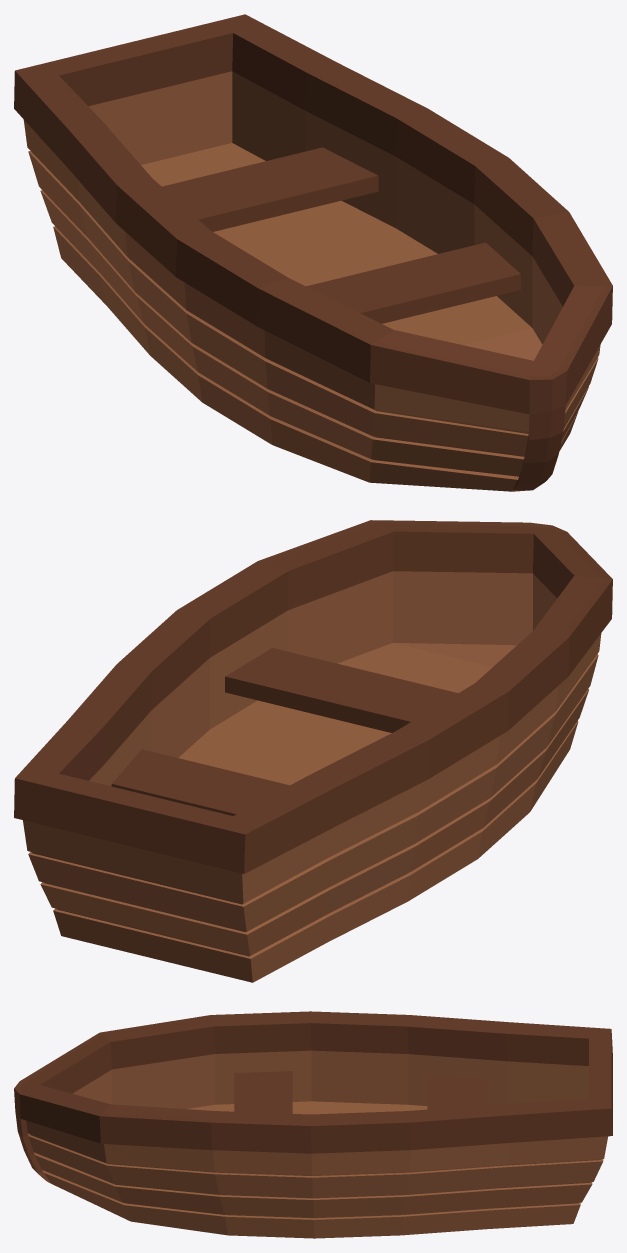
The model's file is barco.fbx.
3 views of the same model, one above another, from view 1: azimuth 30°, elevation 25°; view 2: azimuth 150°, elevation 25°; view 3: azimuth 270°, elevation 25° (orthographic). The views are drawn at different scales.
Parts seen in each view (by area): view 1: Cube; view 2: Cube; view 3: Cube.
Part boxes in pixels (bbox=[...]): Cube: bbox=[14, 14, 612, 491]; Cube: bbox=[14, 520, 612, 982]; Cube: bbox=[14, 1011, 612, 1238].
Bounding box in the file's own units: 367 × 182 × 809.
